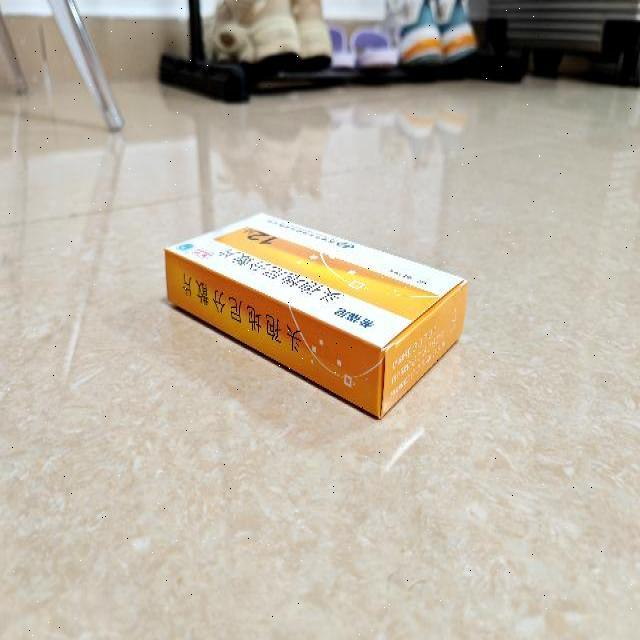box: (164, 212, 466, 420)
